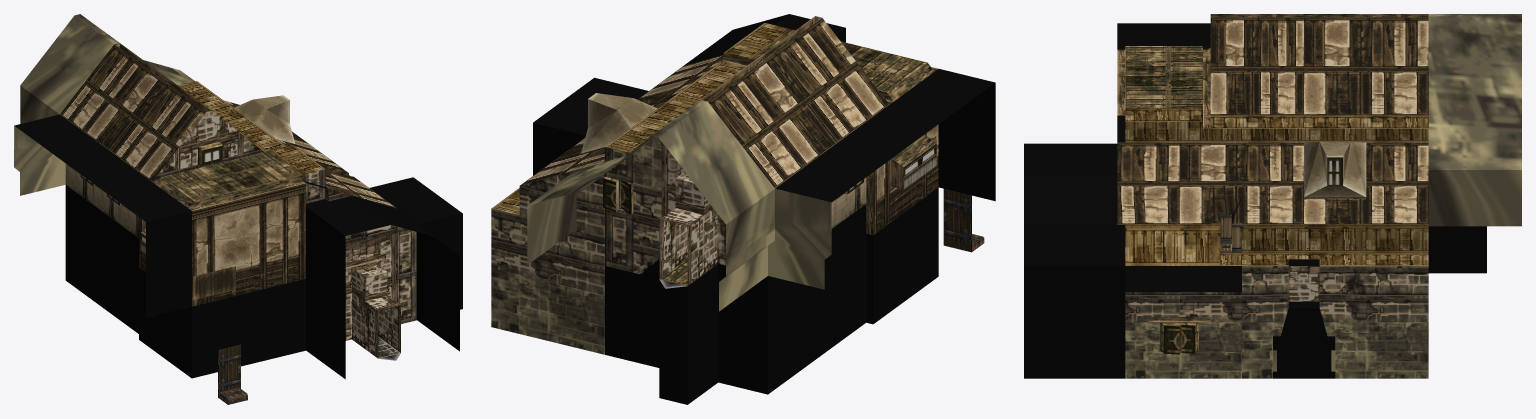
The model's file is MAP176.obj.
3 views of the same model, side by side, from view 1: azimuth 30°, elevation 25°; view 2: azimuth 150°, elevation 25°; view 3: azimuth 270°, elevation 25° (orthographic). The views are drawn at different scales.
Visible parts, largest first — view 1: mesh_133, mesh_8, mesh_115, mesh_7, mesh_5, mesh_35, mesh_139, mesh_37, mesh_6, mesh_116, mesh_9, mesh_124 (+26 smaller); view 2: mesh_133, mesh_5, mesh_8, mesh_115, mesh_15, mesh_11, mesh_17, mesh_9, mesh_10, mesh_6, mesh_124, mesh_127 (+19 smaller); view 3: mesh_5, mesh_115, mesh_127, mesh_7, mesh_139, mesh_29, mesh_122, mesh_124, mesh_30, mesh_105, mesh_26, mesh_99 (+16 smaller).
Part boxes in pixels (box(x1,y1,x2,y2)): mesh_133: box(65, 185, 305, 378); mesh_8: box(14, 114, 191, 317); mesh_115: box(60, 44, 192, 171); mesh_7: box(306, 196, 456, 379); mesh_5: box(20, 14, 194, 123); mesh_35: box(345, 262, 400, 358); mesh_139: box(417, 232, 459, 351); mesh_37: box(192, 189, 283, 271); mesh_6: box(370, 177, 462, 309); mesh_116: box(171, 158, 302, 201); mesh_9: box(14, 126, 65, 195); mesh_124: box(139, 102, 396, 208); mesh_133: box(605, 188, 938, 404); mesh_5: box(527, 100, 774, 311); mesh_8: box(775, 69, 995, 202); mesh_115: box(708, 30, 872, 188); mesh_15: box(491, 170, 604, 295); mesh_11: box(659, 142, 725, 285); mesh_17: box(491, 268, 576, 347); mesh_9: box(768, 188, 831, 289); mesh_10: box(577, 154, 661, 272); mesh_6: box(533, 77, 648, 175); mesh_124: box(553, 18, 889, 161); mesh_127: box(491, 75, 725, 215); mesh_5: box(1428, 14, 1521, 226); mesh_115: box(1242, 17, 1428, 115); mesh_127: box(1125, 115, 1428, 265); mesh_7: box(1024, 143, 1125, 265); mesh_139: box(1024, 266, 1125, 378); mesh_29: box(1125, 266, 1428, 322); mesh_122: box(1242, 142, 1428, 224); mesh_124: box(1117, 17, 1366, 224); mesh_30: box(1125, 322, 1428, 378); mesh_105: box(1179, 105, 1241, 224); mesh_26: box(1148, 322, 1365, 378); mesh_99: box(1222, 245, 1335, 378).
Size of the model in its own units: 179 by 120 by 205.
23 materials, 23 textured.
